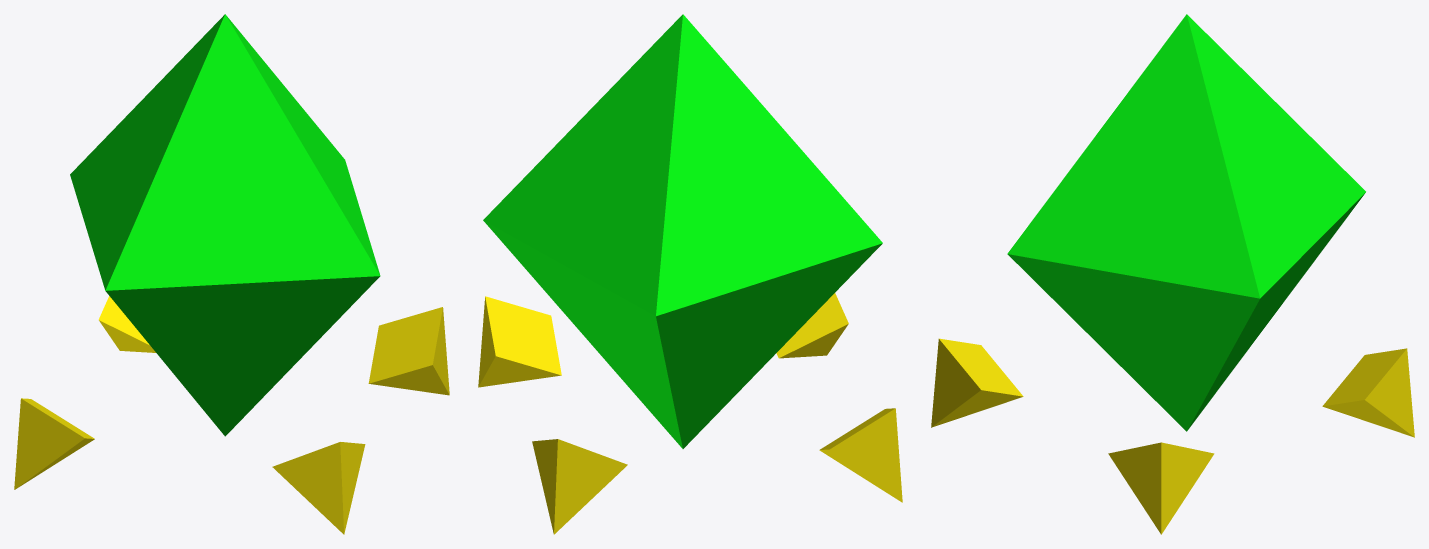
File: WindHead.FBX
3 views of the same model, side by side, from view 1: azimuth 30°, elevation 25°; view 2: azimuth 150°, elevation 25°; view 3: azimuth 270°, elevation 25° (orthographic). The views are drawn at different scales.
Visible parts, largest first — view 1: WindHead; view 2: WindHead; view 3: WindHead.
Boxes of the visible parts, <box> form: WindHead: <box>14,14,449,534</box>; WindHead: <box>478,14,902,534</box>; WindHead: <box>931,14,1414,534</box>.
Bounding box in the file's own units: 15.43 × 14.74 × 15.43.
